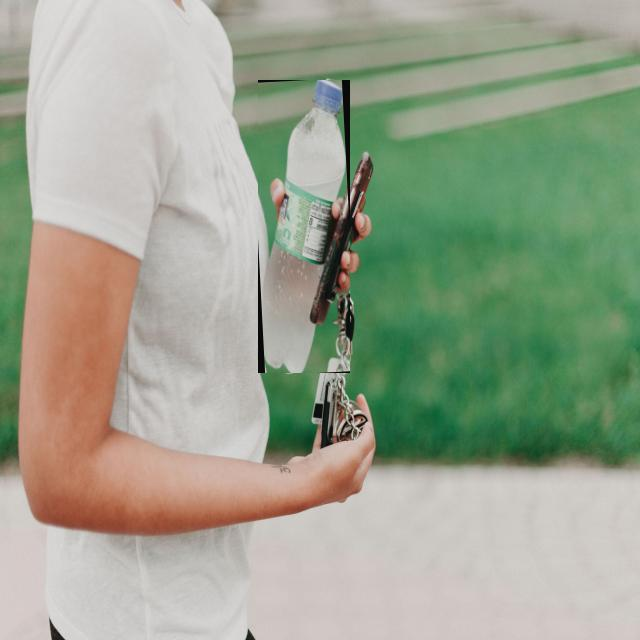Bottle: (258, 80, 348, 373)
